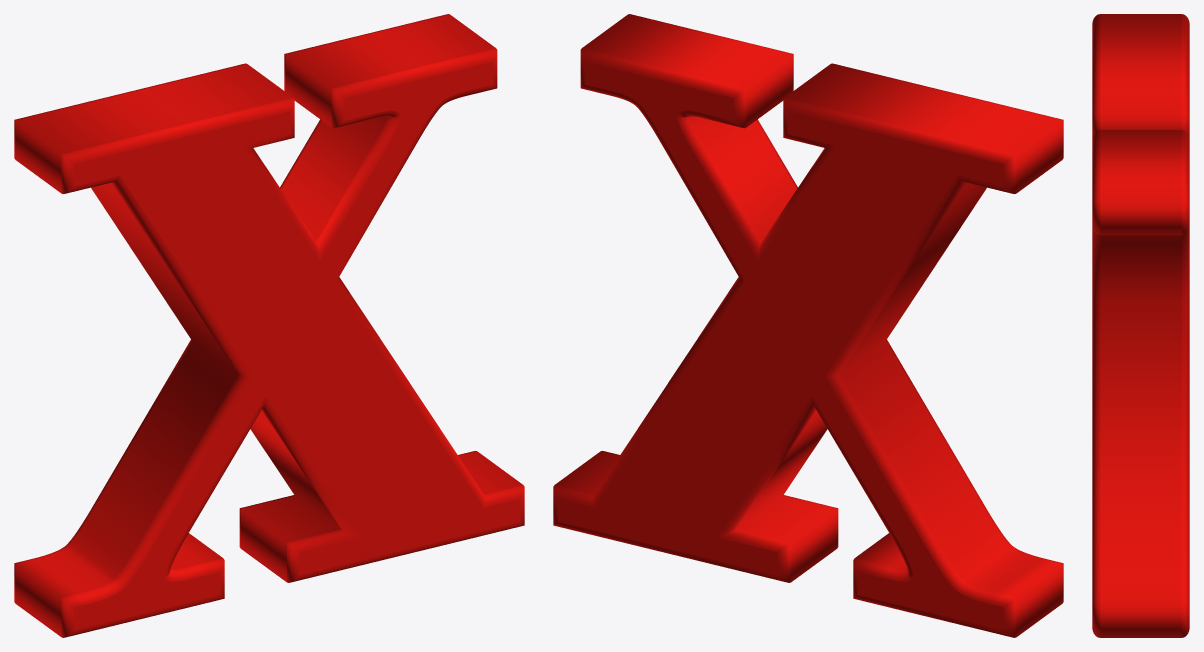
The model's file is capital_x.fbx.
3 views of the same model, side by side, from view 1: azimuth 30°, elevation 25°; view 2: azimuth 150°, elevation 25°; view 3: azimuth 270°, elevation 25° (orthographic). The views are drawn at different scales.
Visible parts, largest first — view 1: Text; view 2: Text; view 3: Text.
Part boxes in pixels (x1,y1,x2,y2): Text: [14, 14, 524, 637]; Text: [553, 14, 1063, 637]; Text: [1092, 14, 1189, 637].
Size of the model in its own units: 221 by 221 by 45.87.
